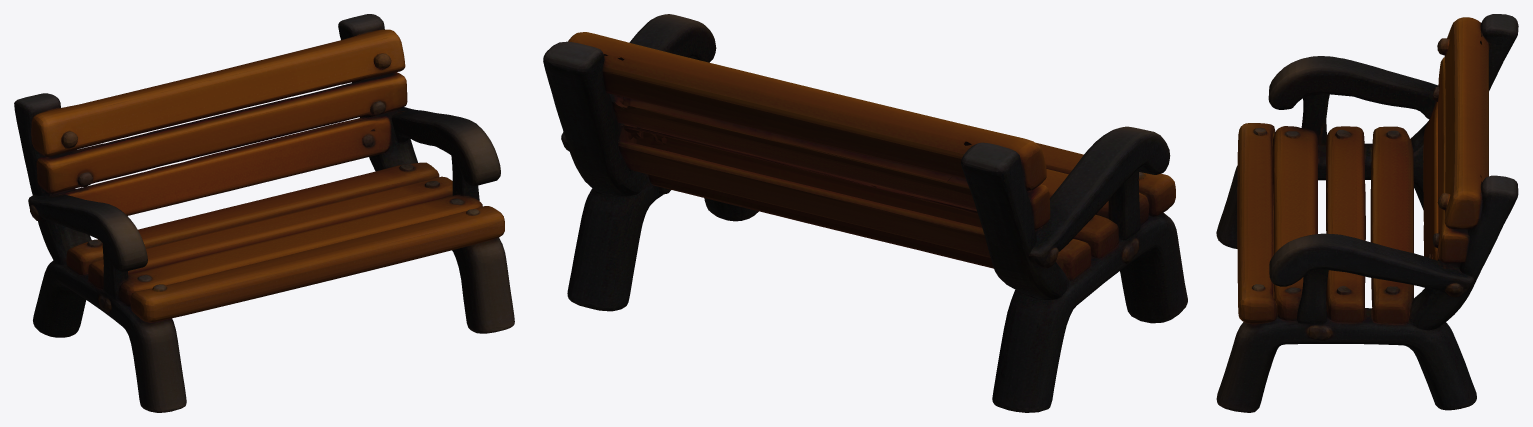
Rendered from banco.glb.
3 views of the same model, side by side, from view 1: azimuth 30°, elevation 25°; view 2: azimuth 150°, elevation 25°; view 3: azimuth 270°, elevation 25° (orthographic). The views are drawn at different scales.
Parts seen in each view (by area): view 1: world; view 2: world; view 3: world.
Part boxes in pixels (x1=…): world: x1=14, y1=14, x2=514, y2=412; world: x1=543, y1=14, x2=1187, y2=412; world: x1=1216, y1=14, x2=1518, y2=412.
Size of the model in its own units: 1 by 0.5502 by 0.6693.
Materials: 1 (1 with a texture image).
